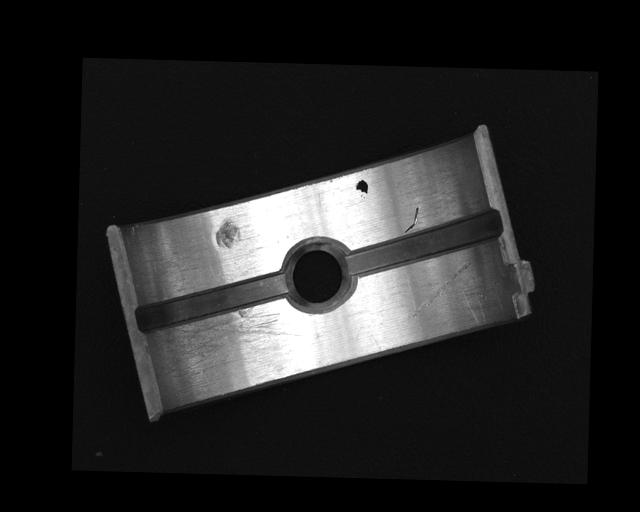blot: (354, 178, 368, 199)
bruise: (214, 218, 242, 250)
gap: (346, 204, 502, 279), (134, 268, 292, 335)
hole: (283, 239, 352, 313)
nick: (406, 258, 473, 324), (404, 205, 419, 234)
scratch: (144, 303, 307, 383)
